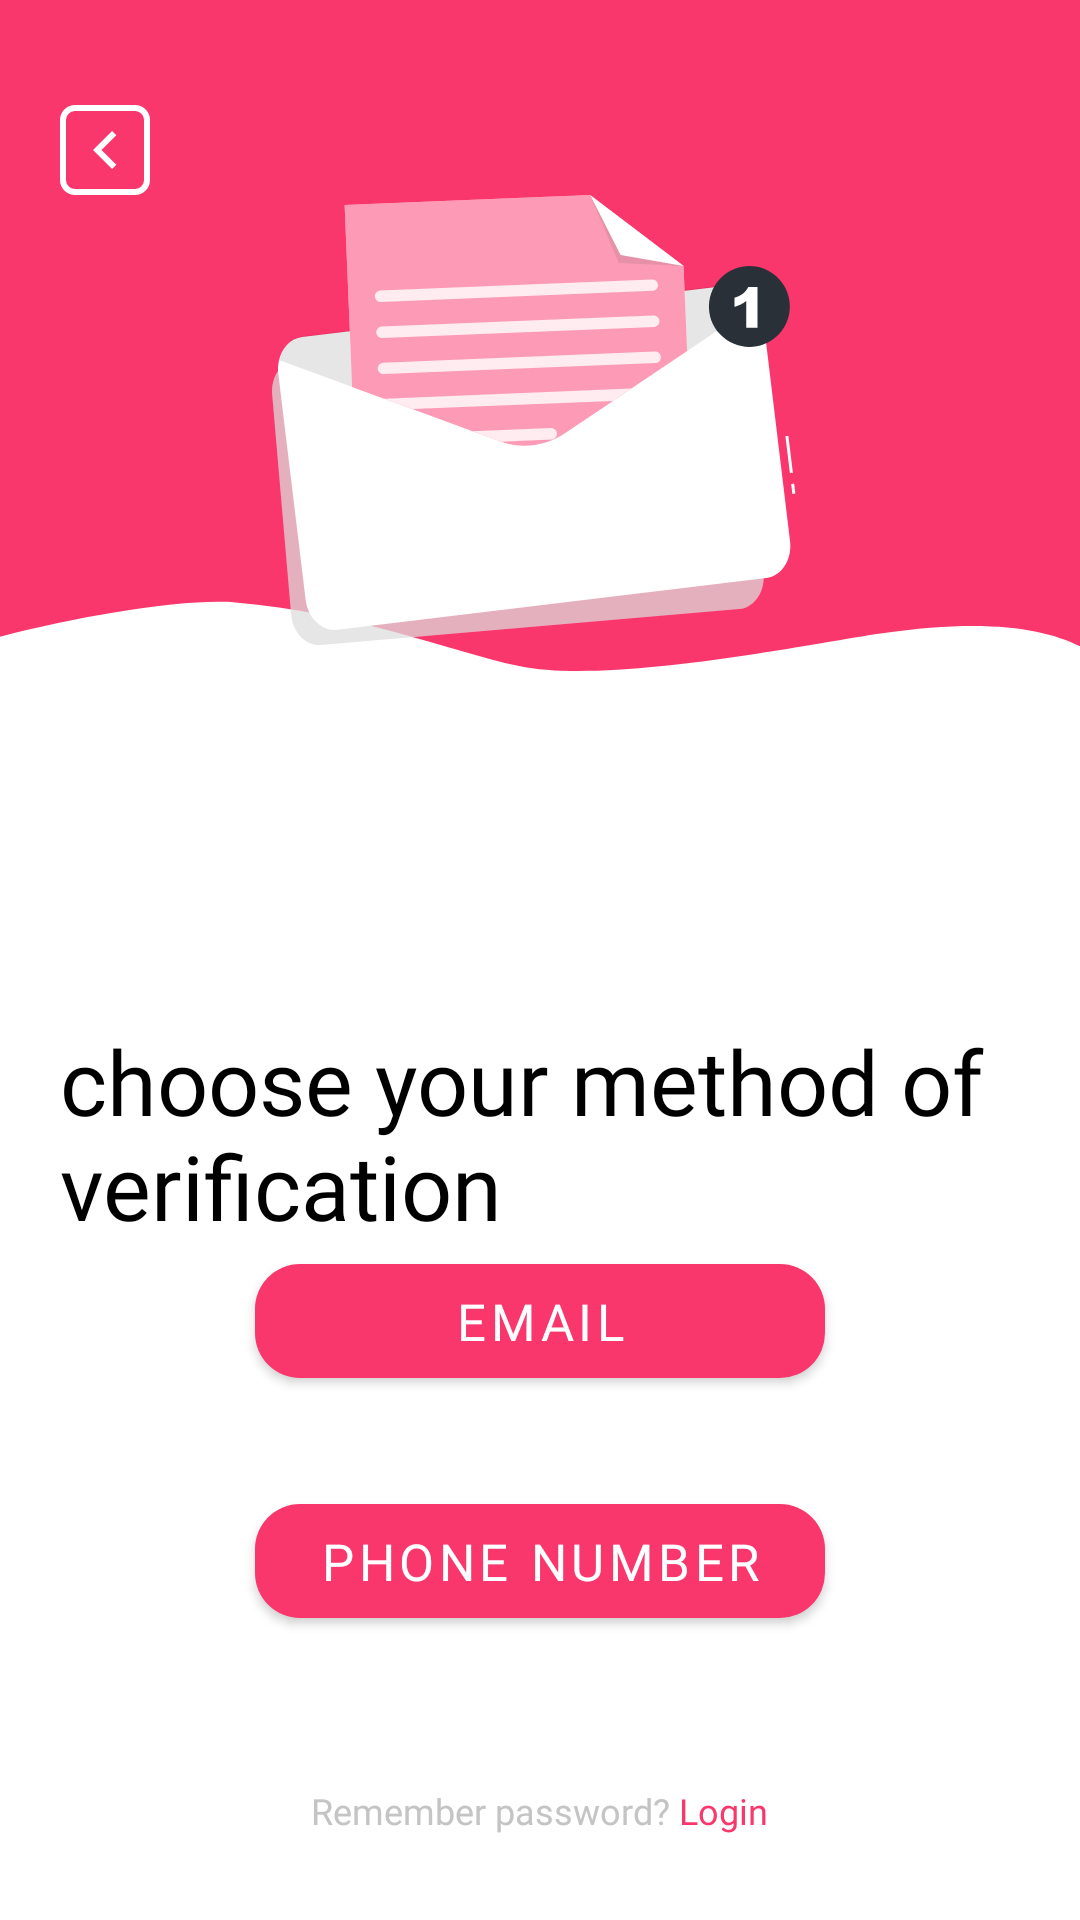

Icons on this 1080px x 1920px Android screen, each with its box as [left=x1, top=y1, right=x2, bottom=y2]:
back bnt: [left=60, top=105, right=150, bottom=195]
